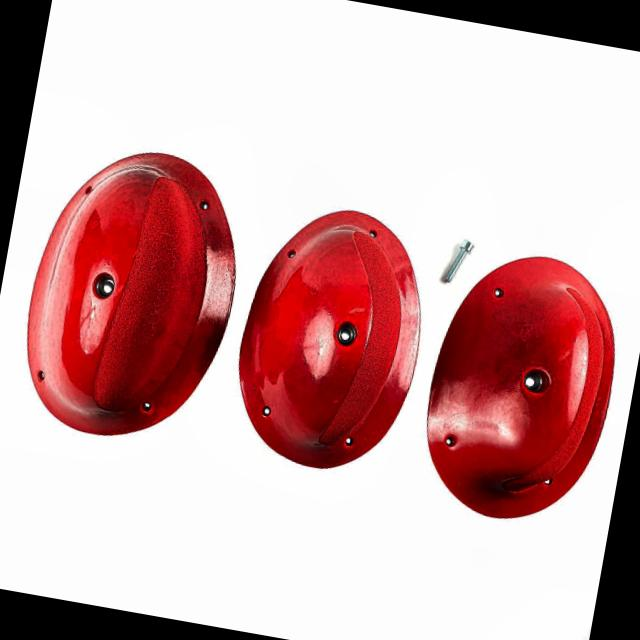Hold: (2, 130, 256, 458), (408, 240, 630, 536), (217, 195, 442, 482)
